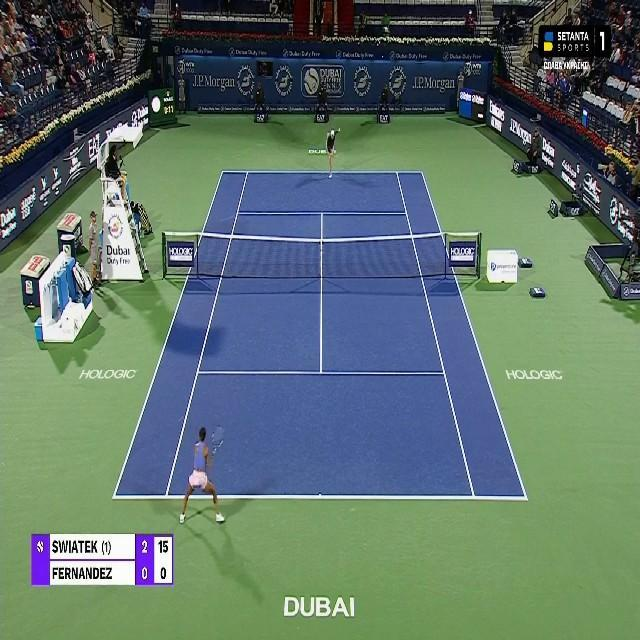left side: (113, 171, 248, 498), (396, 171, 527, 499)
player: (178, 426, 224, 524), (323, 127, 341, 179)
